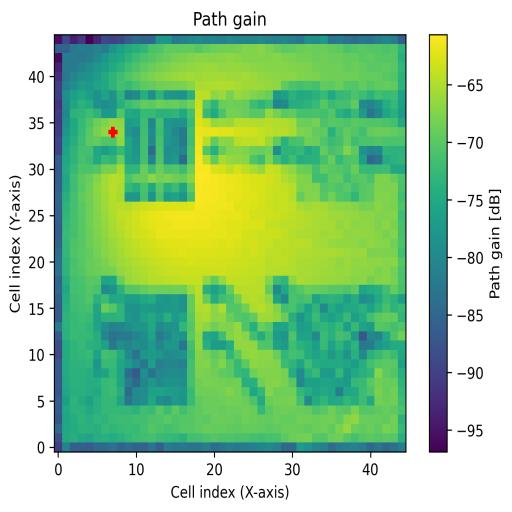Concrete: (298, 90, 375, 200)
Glass: (124, 90, 196, 202)
Metal: (296, 286, 375, 404)
Wood: (122, 293, 188, 408)
